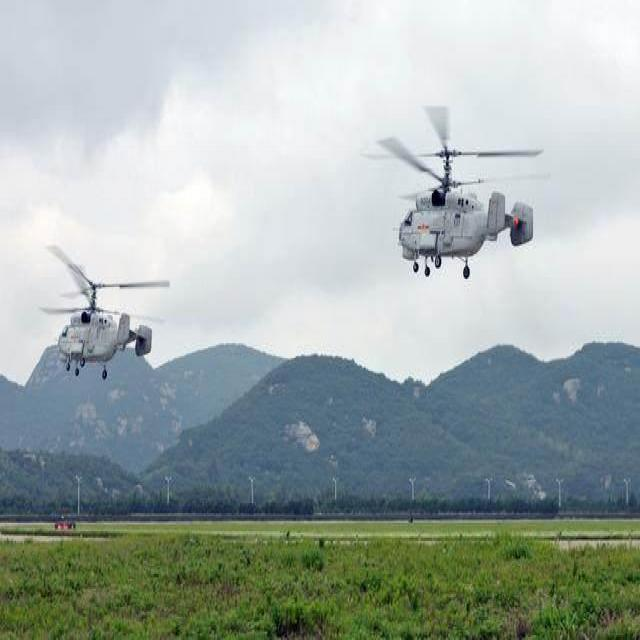MIL_HELO: (360, 100, 543, 287), (34, 226, 168, 385)
